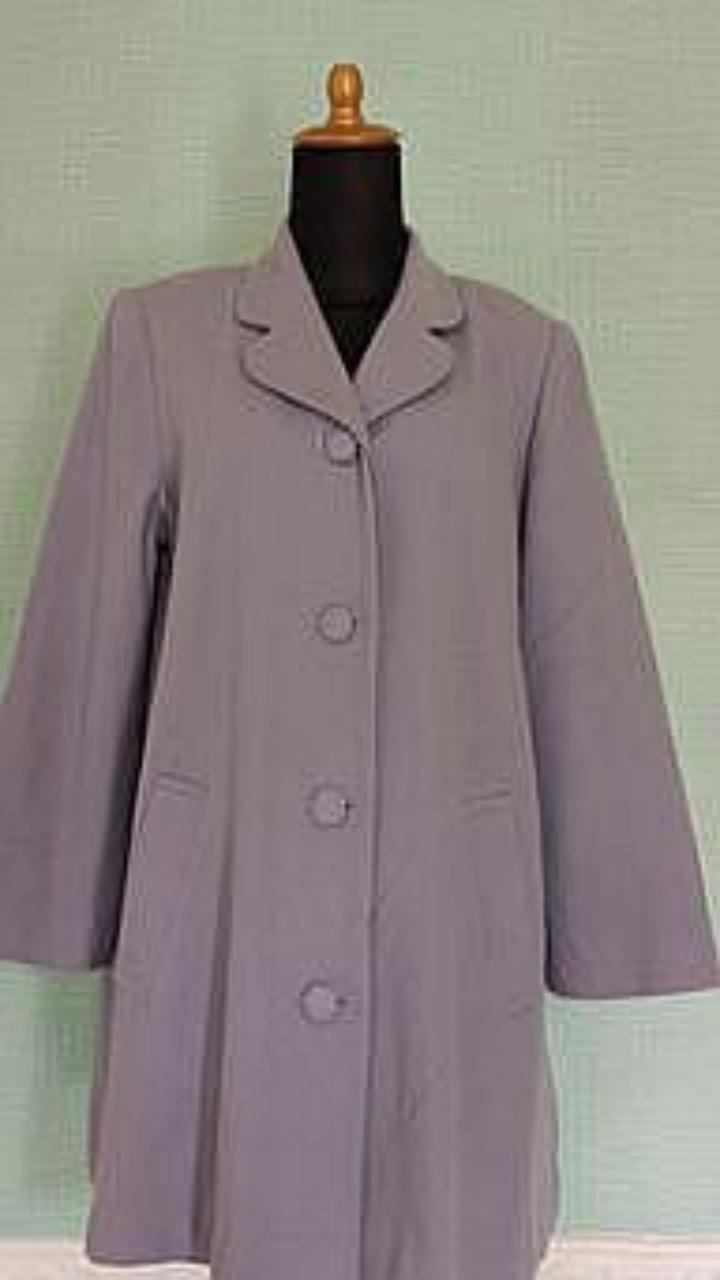Coat: (0, 219, 719, 1279)
